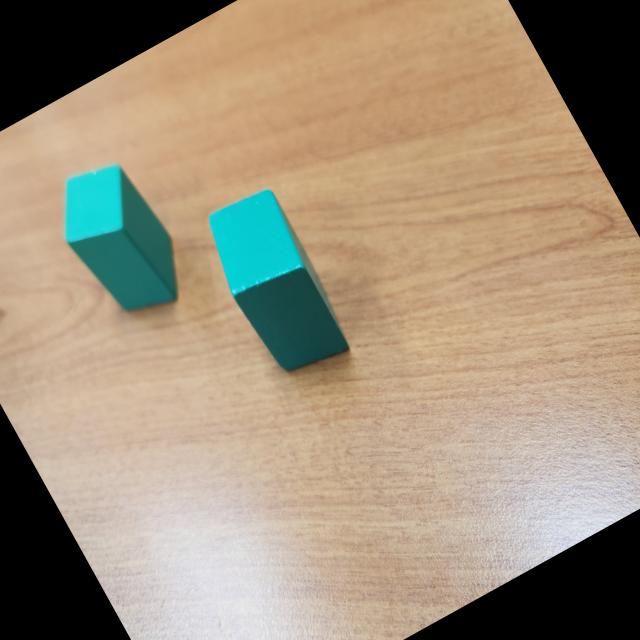green: (192, 180, 357, 384), (40, 148, 199, 332)
